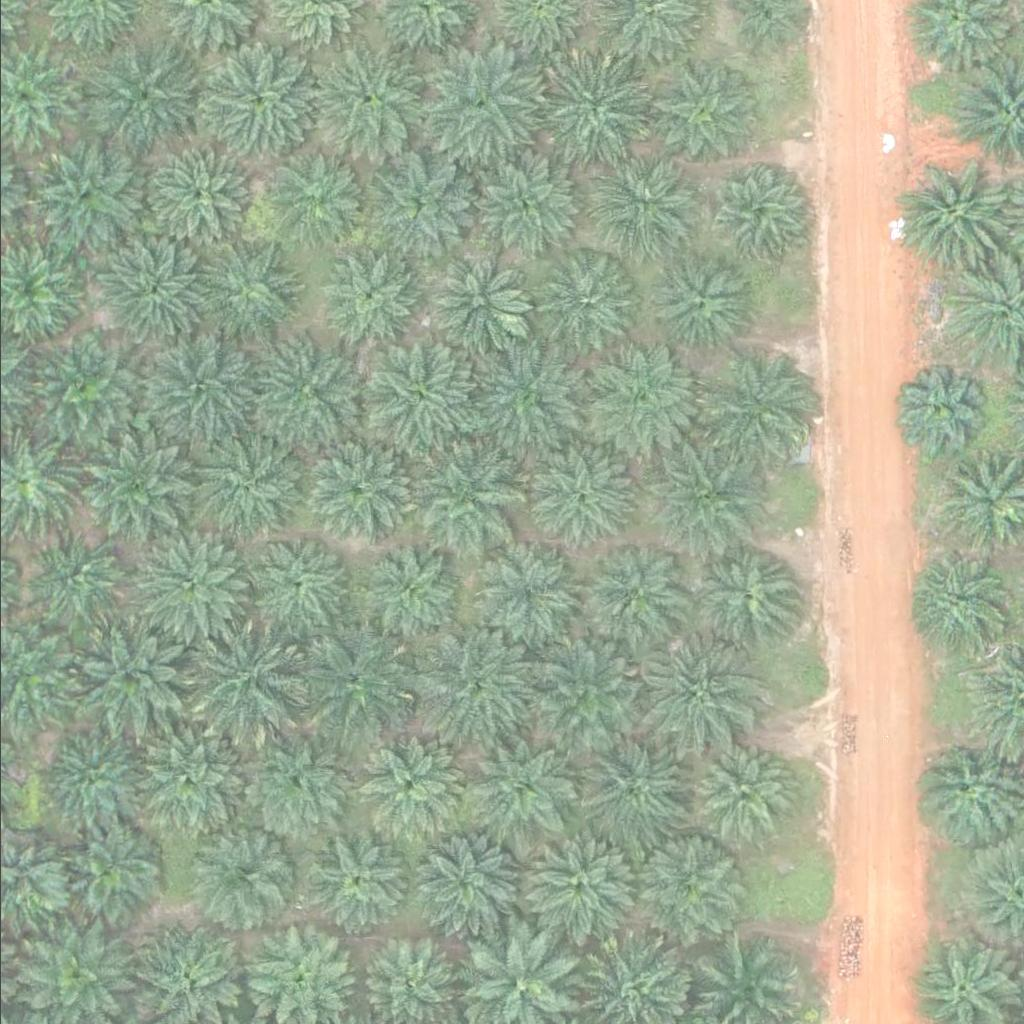Kelapa_Sawit: (460, 736, 574, 849), (67, 623, 181, 736), (299, 429, 413, 542), (631, 829, 744, 942), (527, 830, 640, 943), (295, 823, 408, 936), (187, 818, 300, 931), (53, 815, 166, 928), (129, 716, 242, 829), (572, 727, 685, 840), (526, 641, 639, 754), (422, 621, 535, 734), (579, 539, 692, 652), (643, 432, 756, 545), (522, 433, 635, 546), (182, 426, 295, 539), (694, 346, 807, 459), (577, 339, 690, 452), (362, 343, 475, 456), (260, 336, 373, 449), (178, 231, 291, 344), (417, 46, 530, 159), (310, 41, 423, 154), (206, 46, 319, 159), (80, 34, 193, 147), (352, 734, 466, 846), (688, 537, 802, 649), (74, 429, 188, 541), (150, 334, 264, 446), (644, 52, 758, 164), (402, 824, 515, 936), (241, 727, 354, 839), (638, 635, 751, 747), (298, 628, 411, 740), (185, 629, 298, 741), (132, 530, 245, 642), (410, 448, 523, 560), (466, 341, 579, 453), (415, 252, 528, 364), (102, 237, 215, 349), (25, 140, 138, 252), (366, 151, 479, 263), (530, 51, 643, 163), (910, 734, 1023, 846), (893, 161, 1006, 273), (32, 730, 133, 830), (690, 737, 791, 837), (19, 532, 120, 632), (252, 532, 353, 632), (468, 545, 569, 645), (654, 255, 755, 355), (525, 254, 626, 354), (316, 247, 417, 347), (264, 146, 365, 246), (477, 156, 578, 256), (900, 551, 1001, 651), (354, 539, 454, 639), (37, 333, 137, 433), (146, 146, 246, 246), (591, 149, 691, 249), (708, 160, 808, 260), (889, 364, 977, 451)
